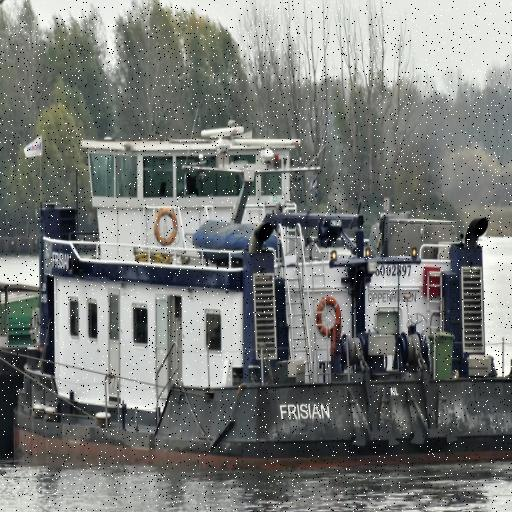tugboat: (11, 103, 512, 481)
